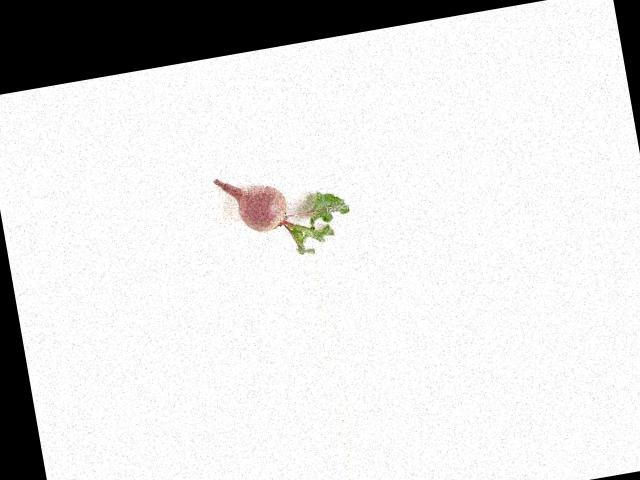beet: (213, 157, 356, 267)
